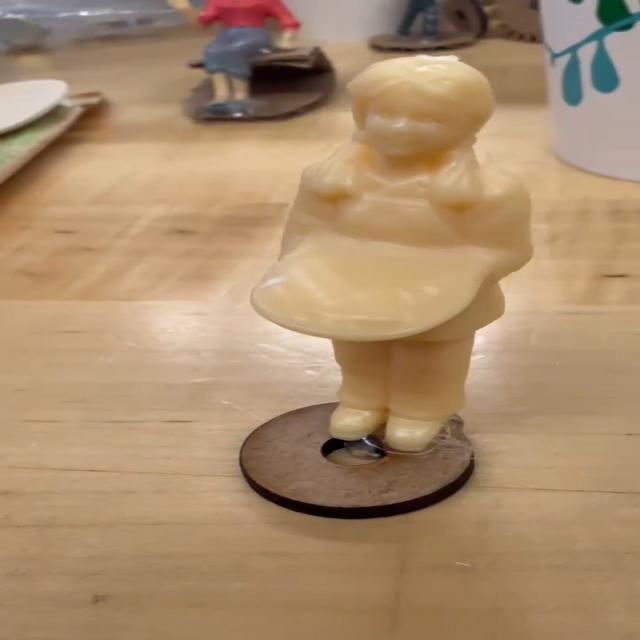Unauthorized: (249, 49, 536, 486)
